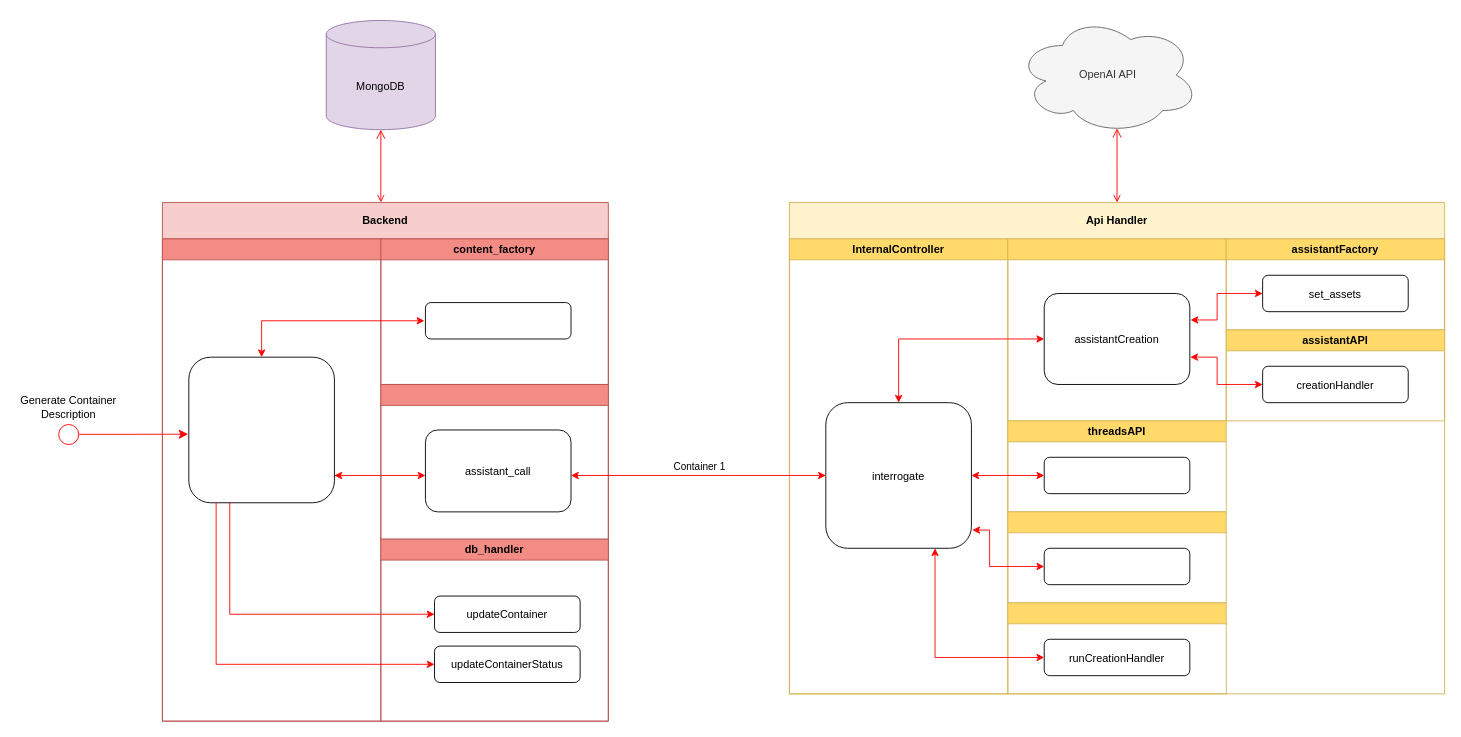
This 1461x737 diagram has some shape labels left out. Here are the shapes that lost their labels. From the top down, the box of each, then its label:
(425, 302, 571, 339): getContainerContent
(1007, 238, 1226, 421): assistantOrchestrator
(188, 356, 334, 503): generateContainer
(162, 238, 381, 721): ContainerController
(380, 384, 608, 539): api_handler_bridge
(1043, 456, 1190, 494): threadCreationHandler
(1007, 511, 1226, 603): messagesAPI
(1043, 547, 1190, 585): messageCreationHandler
(1007, 602, 1226, 694): runsAPI
